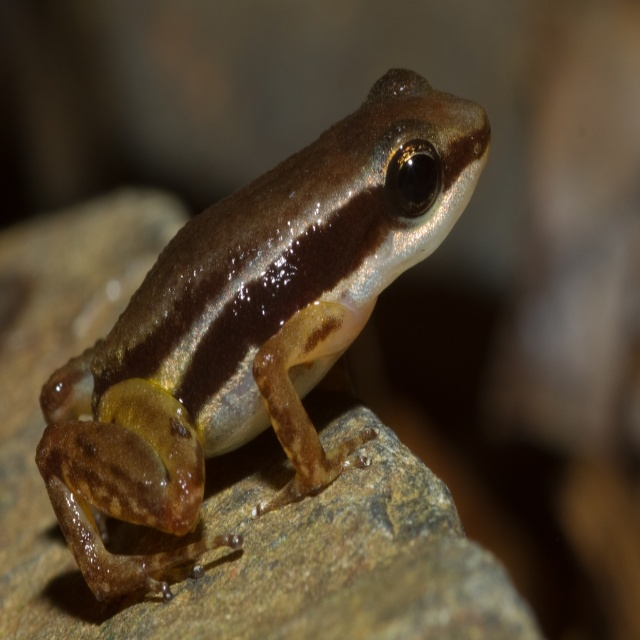Frog: (33, 65, 493, 609)
